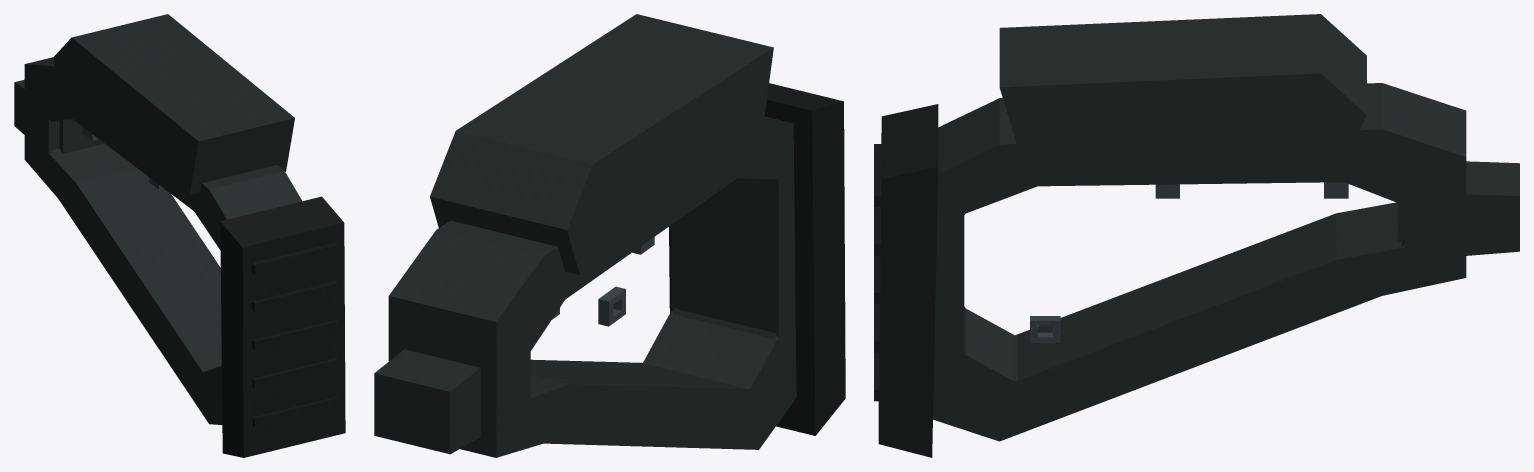
The model's file is ak12_cheek.glb.
The picture shows the model from 3 angles, left to right: view 1: azimuth 30°, elevation 25°; view 2: azimuth 150°, elevation 25°; view 3: azimuth 270°, elevation 25°; orthographic projection. The views are drawn at different scales.
Parts seen in each view (by area): view 1: ak12_cheek_open_stock, ak12_cheek_open_stock.001, ak12_cheek_buttpad, ak12_cheek_buttpad.001; view 2: ak12_cheek_open_stock, ak12_cheek_open_stock.001, ak12_cheek_buttpad, ak12_cheek_buttpad.001, ak12_cheek_cheek_support; view 3: ak12_cheek_open_stock, ak12_cheek_open_stock.001, ak12_cheek_buttpad, ak12_cheek_buttpad.001, ak12_cheek_cheek_support.
Boxes of the visible parts, <box> form: ak12_cheek_open_stock: <box>15,15,299,422</box>; ak12_cheek_open_stock.001: <box>14,14,302,424</box>; ak12_cheek_buttpad: <box>220,198,343,455</box>; ak12_cheek_buttpad.001: <box>220,196,345,457</box>; ak12_cheek_open_stock: <box>375,16,796,453</box>; ak12_cheek_open_stock.001: <box>374,14,796,457</box>; ak12_cheek_buttpad: <box>764,84,845,432</box>; ak12_cheek_buttpad.001: <box>669,83,845,435</box>; ak12_cheek_cheek_support: <box>552,237,654,326</box>; ak12_cheek_open_stock: <box>935,15,1518,437</box>; ak12_cheek_open_stock.001: <box>933,14,1519,441</box>; ak12_cheek_buttpad: <box>874,105,937,455</box>; ak12_cheek_buttpad.001: <box>878,104,938,457</box>; ak12_cheek_cheek_support: <box>1030,182,1348,342</box>.
Size of the model in its own units: 0.097 by 0.276 by 0.422.
3 materials, 3 textured.
